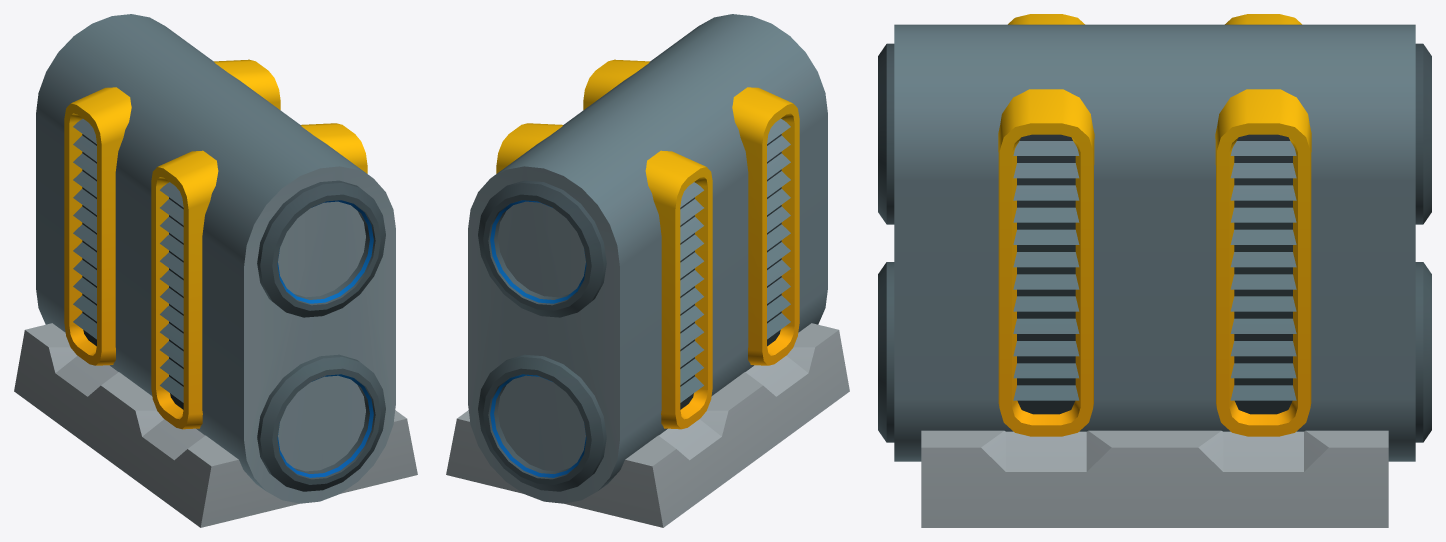
The model's file is Generator_004.fbx.
The picture shows the model from 3 angles, left to right: view 1: azimuth 30°, elevation 25°; view 2: azimuth 150°, elevation 25°; view 3: azimuth 270°, elevation 25°; orthographic projection. The views are drawn at different scales.
Parts seen in each view (by area): view 1: Generator_004; view 2: Generator_004; view 3: Generator_004.
Part boxes in pixels (left/top/right/bottom): Generator_004: left=14, top=14, right=417, bottom=527; Generator_004: left=446, top=14, right=849, bottom=527; Generator_004: left=878, top=14, right=1431, bottom=527.
Bounding box in the file's own units: 133 × 235 × 200.
